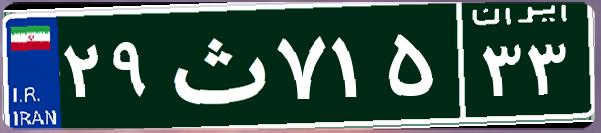1: (330, 28, 385, 110)
2: (57, 26, 110, 107)
3: (475, 38, 525, 113), (525, 38, 570, 115)
5: (385, 28, 445, 110)
7: (273, 28, 330, 110)
9: (110, 28, 158, 105)
ث: (158, 15, 273, 115)
